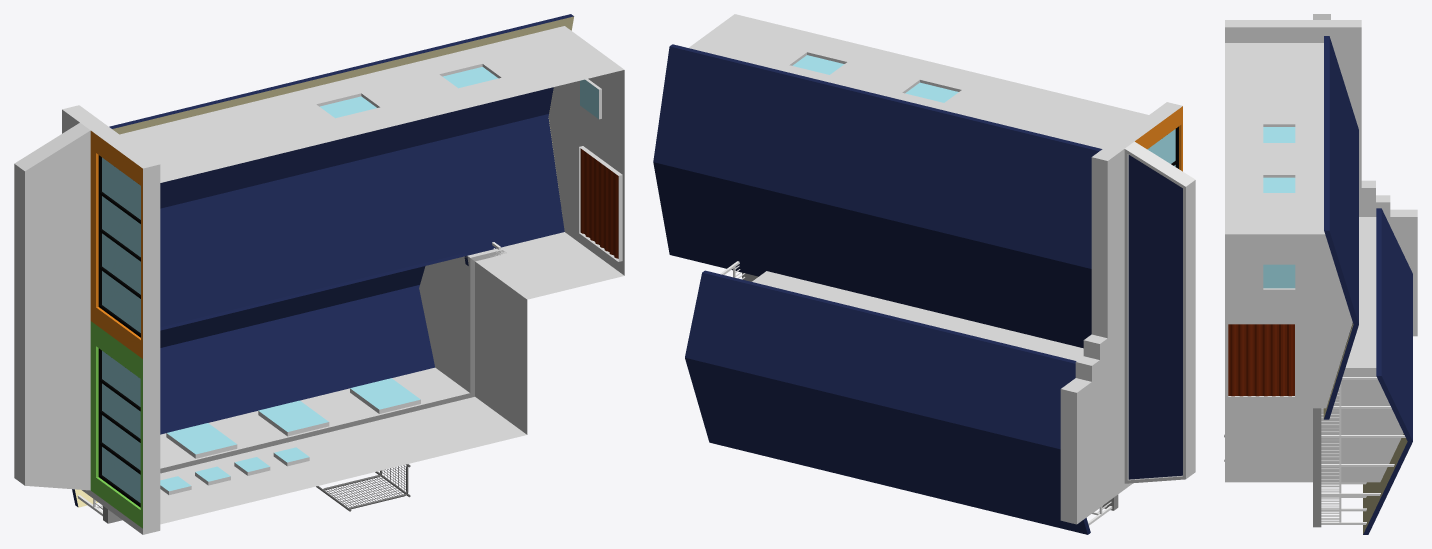
Rendered from Pit Stop News and Supermarket.fbx.
3 views of the same model, side by side, from view 1: azimuth 30°, elevation 25°; view 2: azimuth 150°, elevation 25°; view 3: azimuth 270°, elevation 25° (orthographic). The views are drawn at different scales.
Visible parts, largest first — view 1: Cube.001; view 2: Cube.001; view 3: Cube.001.
Boxes of the visible parts, bbox=[...] form: Cube.001: bbox=[14, 14, 624, 534]; Cube.001: bbox=[653, 14, 1195, 534]; Cube.001: bbox=[1224, 14, 1417, 534].
Size of the model in its own units: 10.14 by 7.03 by 3.62.
